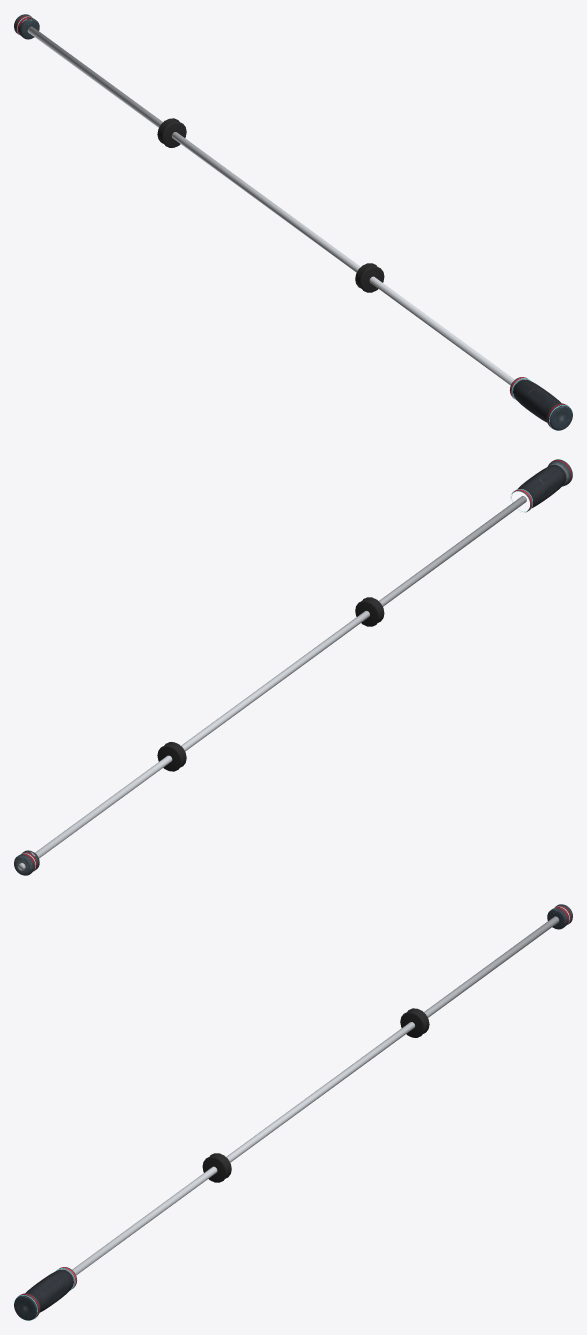
Rendered from fuzeball_rod_3man.glb.
3 views of the same model, one above another, from view 1: azimuth 30°, elevation 25°; view 2: azimuth 150°, elevation 25°; view 3: azimuth 330°, elevation 25° (orthographic).
Visible parts, largest first — view 1: rod2_bar.002, rod3_handle_grip, CylinderL, CylinderR, rod3_handle_endcap; view 2: rod2_bar.002, rod3_handle_grip, CylinderL, CylinderR; view 3: rod2_bar.002, rod3_handle_grip, CylinderL, CylinderR, rod3_handle_endcap.
Part boxes in pixels (left/top/right/bottom): rod2_bar.002: left=27, top=26, right=517, bottom=385; rod3_handle_grip: left=513, top=379, right=561, bottom=422; CylinderL: left=355, top=263, right=384, bottom=292; CylinderR: left=157, top=118, right=186, bottom=147; rod3_handle_endcap: left=546, top=403, right=572, bottom=430; rod2_bar.002: left=18, top=496, right=526, bottom=870; rod3_handle_grip: left=514, top=464, right=566, bottom=510; CylinderL: left=355, top=597, right=384, bottom=626; CylinderR: left=157, top=742, right=186, bottom=771; rod2_bar.002: left=69, top=916, right=559, bottom=1275; rod3_handle_grip: left=25, top=1269, right=73, bottom=1312; CylinderL: left=202, top=1153, right=231, bottom=1182; CylinderR: left=400, top=1008, right=429, bottom=1037; rod3_handle_endcap: left=14, top=1293, right=40, bottom=1320.
Size of the model in its own units: 3.02 by 3.02 by 115.
Materials: 7 (2 with a texture image).
